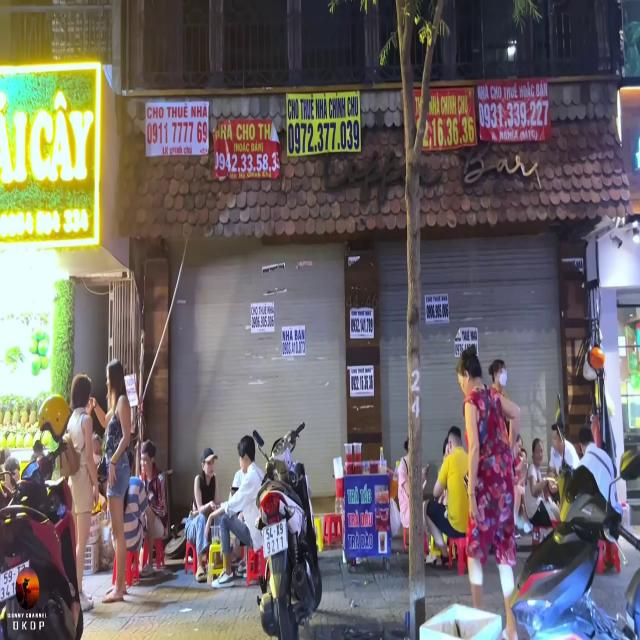bien_trang: (259, 520, 290, 556)
